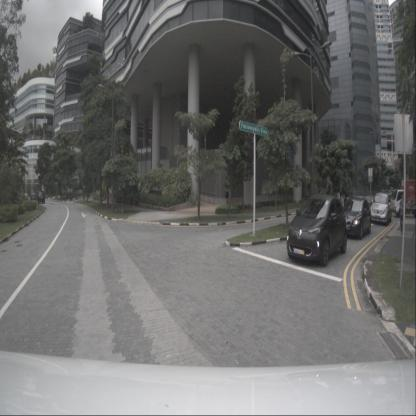human-pedestrian-adult: (398, 192, 405, 235), (343, 185, 348, 212), (225, 183, 230, 206), (338, 188, 342, 210), (337, 189, 341, 209)
vehicle-car: (287, 195, 347, 267), (338, 197, 372, 240), (370, 193, 392, 226), (37, 191, 45, 204), (30, 192, 36, 200)
vehicle-truck: (391, 179, 416, 219)
